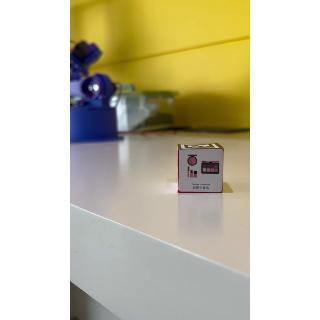Expired_Cosmetic: (180, 151, 231, 201)
